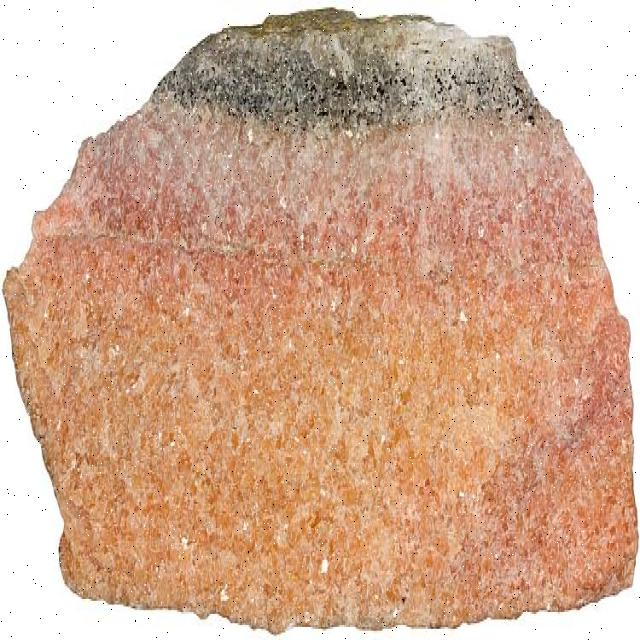Metamorphic: (1, 2, 638, 612)
